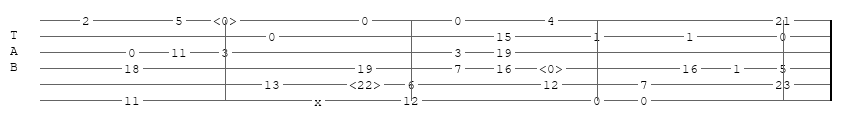0: (128, 46, 140, 58), (268, 30, 280, 42), (361, 14, 373, 26), (454, 14, 466, 26), (593, 94, 605, 106), (640, 94, 652, 106), (779, 30, 791, 42)
1: (593, 30, 605, 42), (686, 30, 698, 42), (733, 62, 745, 74)
11: (124, 94, 144, 106), (171, 46, 191, 58)
12: (403, 94, 423, 106), (543, 78, 563, 90)
13: (264, 78, 284, 90)
15: (496, 30, 516, 42)
16: (496, 62, 516, 74), (682, 62, 702, 74)
18: (124, 62, 144, 74)
19: (357, 62, 377, 74), (496, 46, 516, 58)
2: (82, 14, 94, 26)
21: (775, 14, 795, 26)
23: (775, 78, 795, 90)
3: (221, 46, 233, 58), (454, 46, 466, 58)
4: (547, 14, 559, 26)
5: (175, 14, 187, 26), (779, 62, 791, 74)
6: (407, 78, 419, 90)
7: (454, 62, 466, 74), (640, 78, 652, 90)
harmonic: (349, 78, 385, 91), (213, 14, 241, 27), (539, 62, 567, 75)
x: (314, 95, 326, 105)
